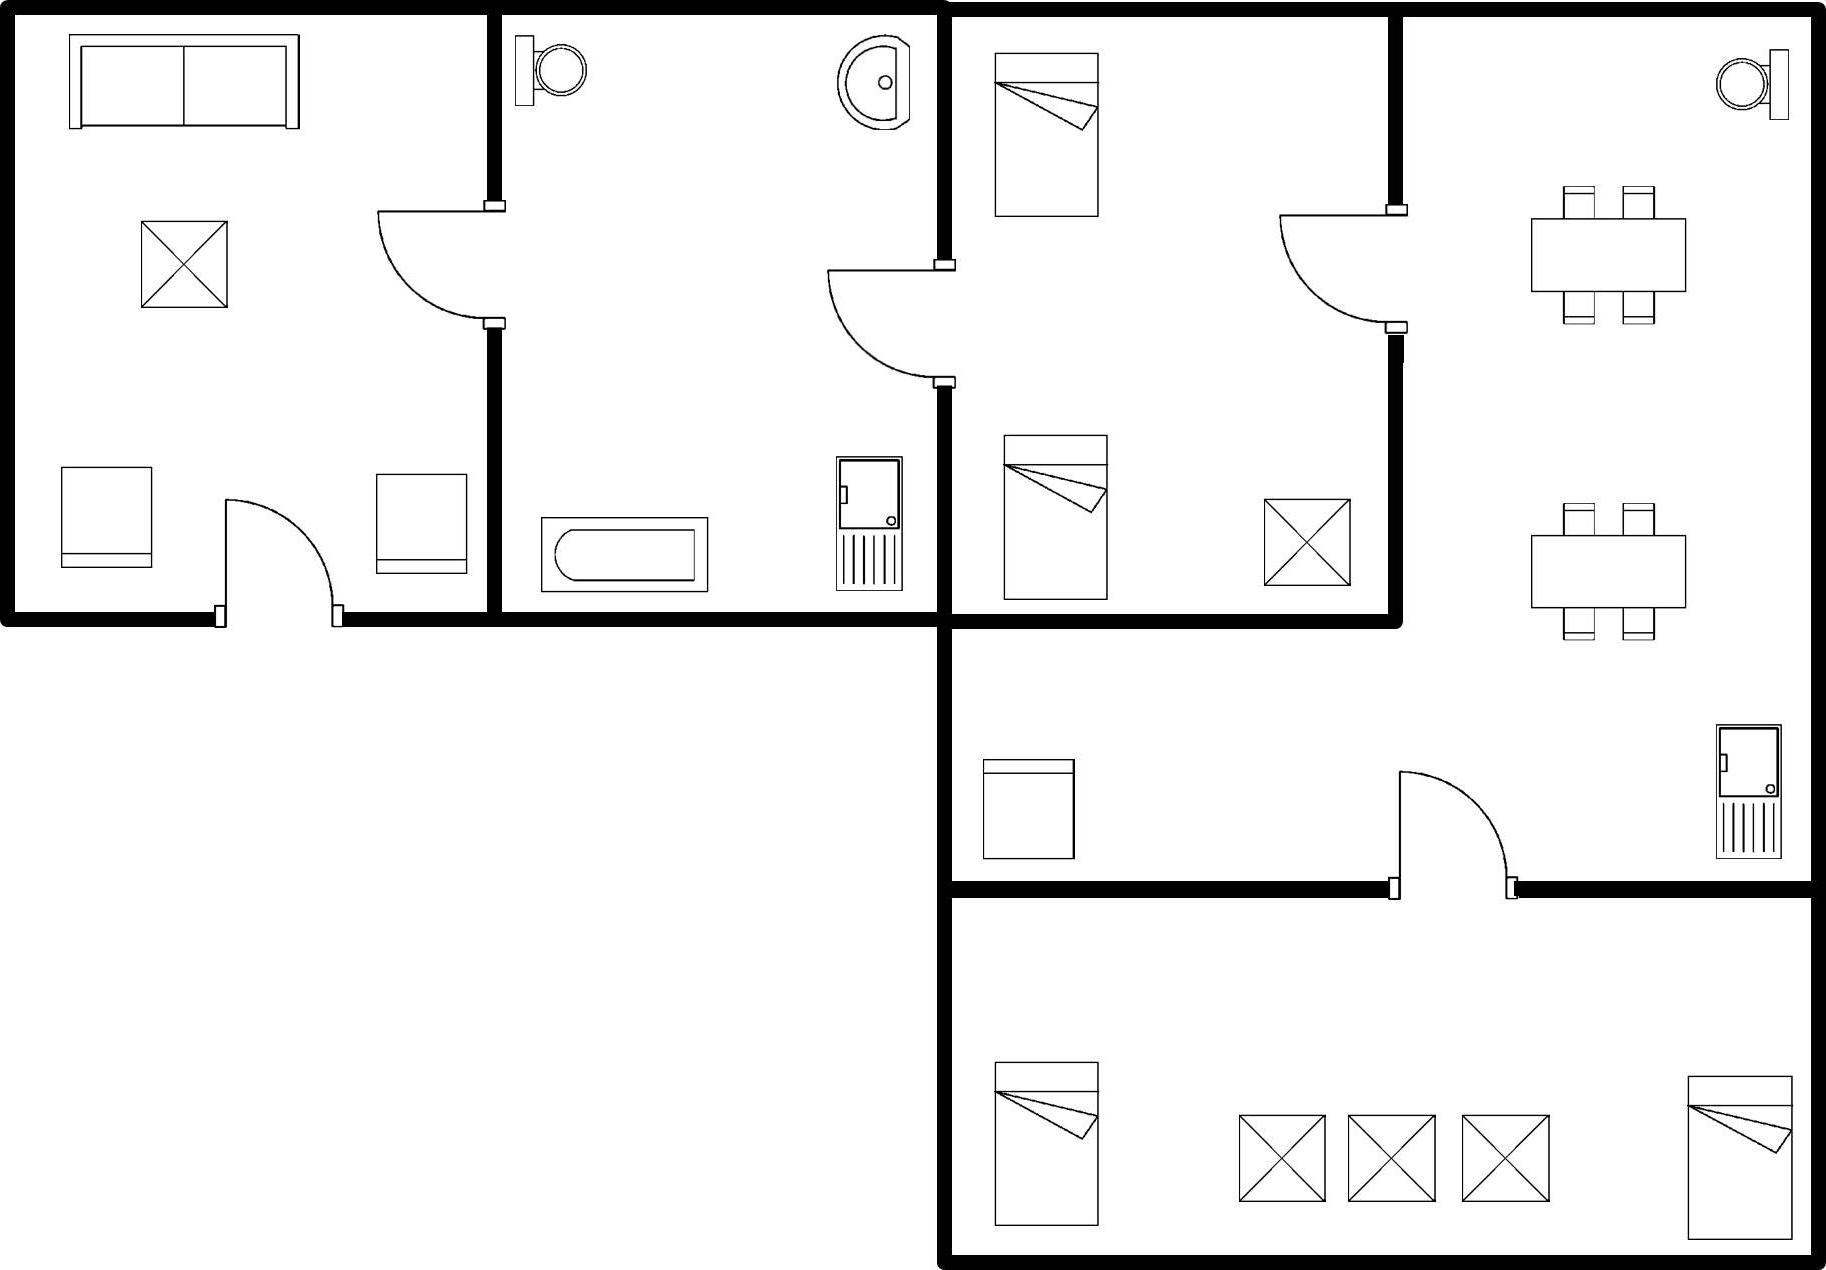bed: (980, 1045, 1111, 1237), (989, 423, 1127, 607), (1673, 1066, 1802, 1249), (987, 42, 1111, 230)
dining_table: (1519, 494, 1700, 652), (1524, 179, 1703, 336)
sink: (826, 446, 916, 597), (1705, 713, 1795, 863)
sofa: (62, 24, 315, 140)
toilet: (1711, 37, 1802, 133), (509, 24, 601, 117)
tub: (536, 507, 716, 600)
